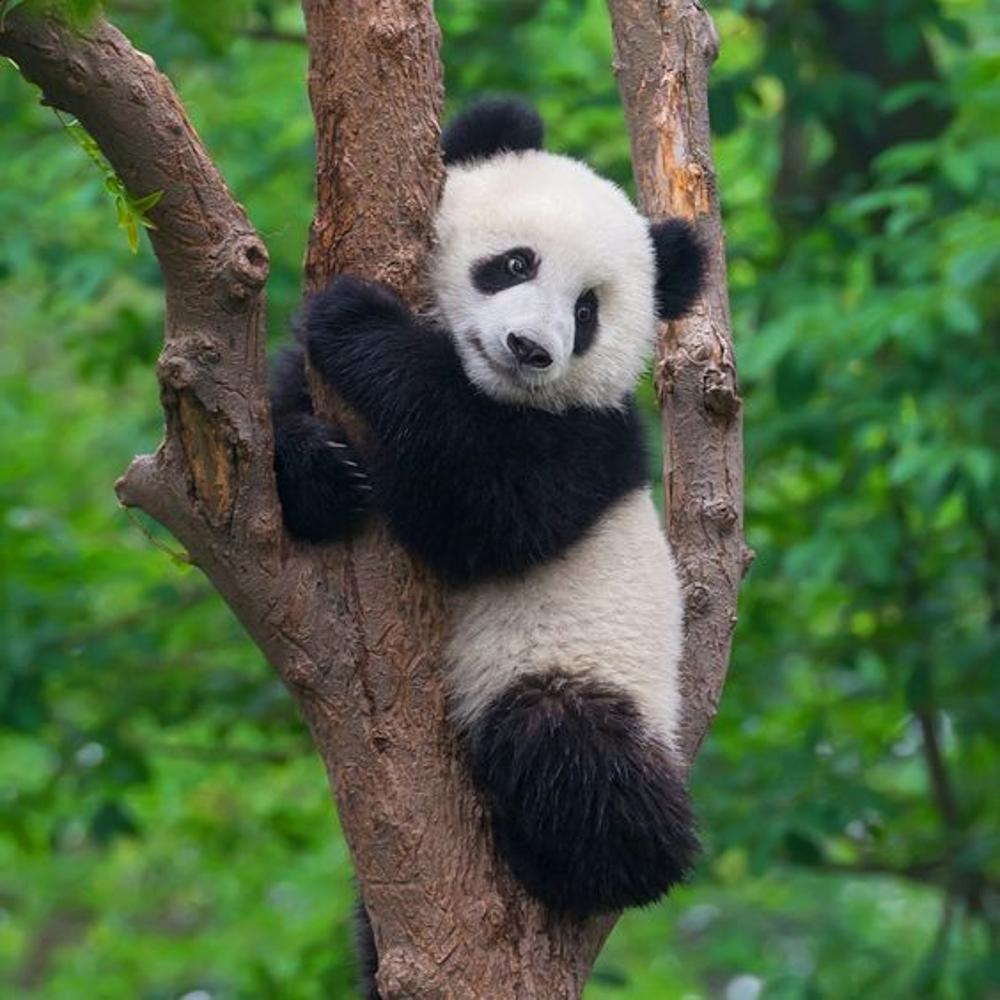panda: (266, 86, 709, 945)
